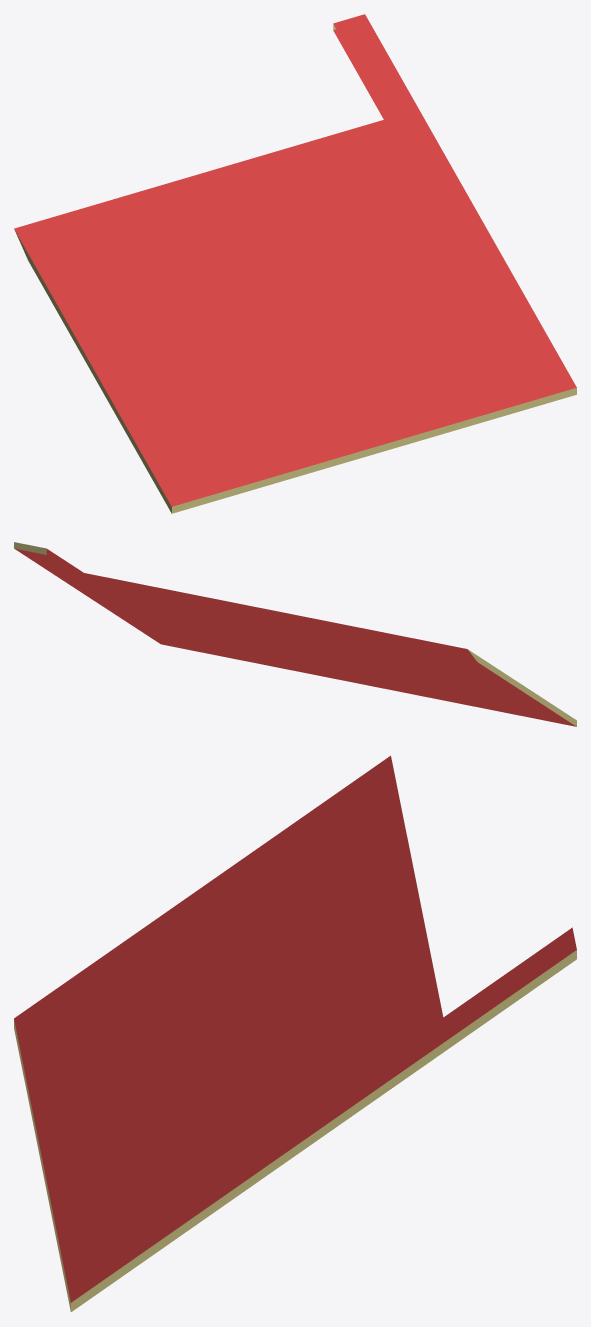
The picture shows the model from 3 angles, top to bottom: view 1: azimuth 30°, elevation 25°; view 2: azimuth 150°, elevation 25°; view 3: azimuth 270°, elevation 25°; orthographic projection. The views are drawn at different scales.
Bounding box in the file's own units: 6.65 × 5.31 × 3.59.
